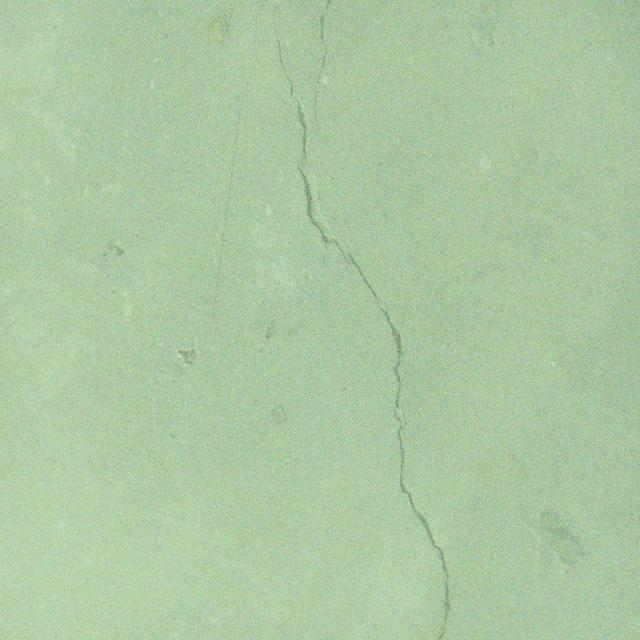crack: (272, 2, 510, 640), (314, 0, 332, 135), (606, 509, 640, 522)
